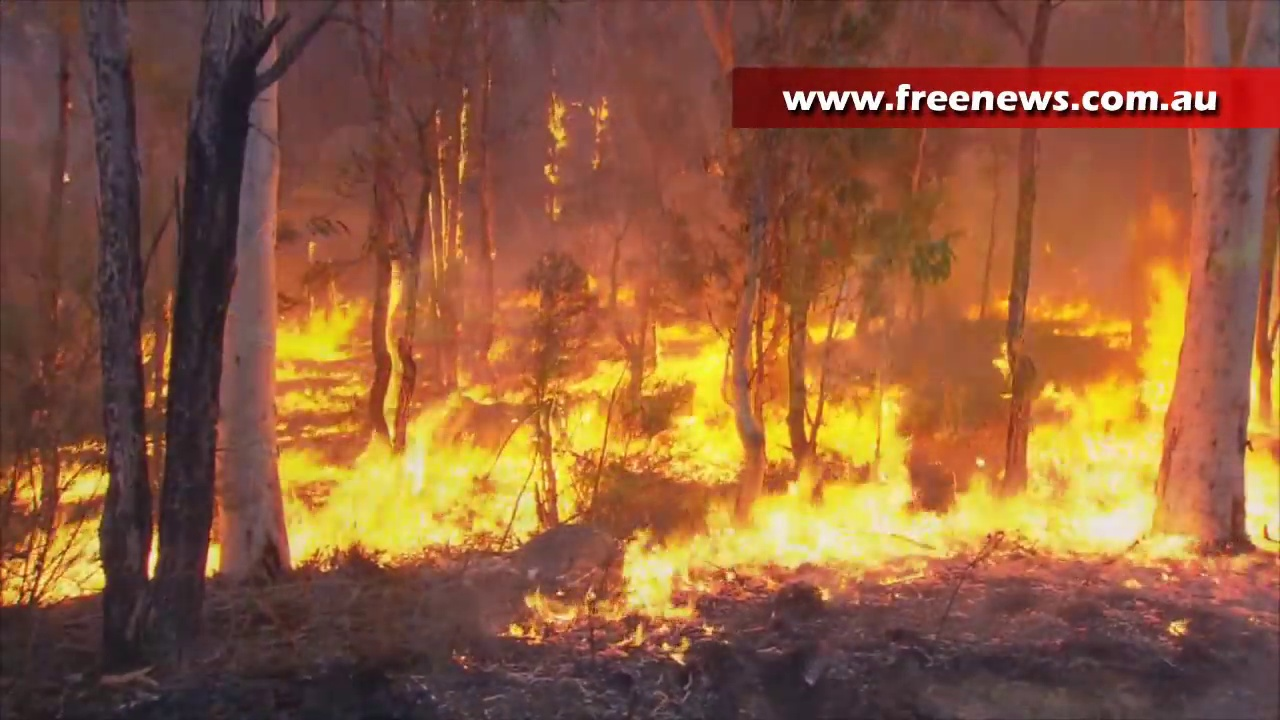fire: (284, 357, 725, 549), (721, 465, 1155, 549), (1039, 378, 1160, 464), (810, 382, 907, 461), (9, 529, 100, 597), (1245, 361, 1280, 537), (624, 554, 693, 621), (281, 310, 354, 356), (17, 465, 101, 501), (547, 98, 567, 190), (591, 95, 607, 161)
